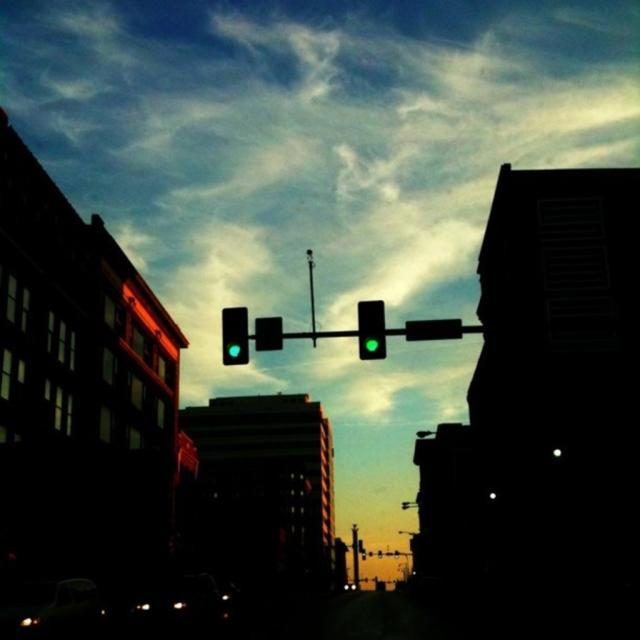traffic light: (358, 301, 386, 360), (222, 307, 249, 366)
